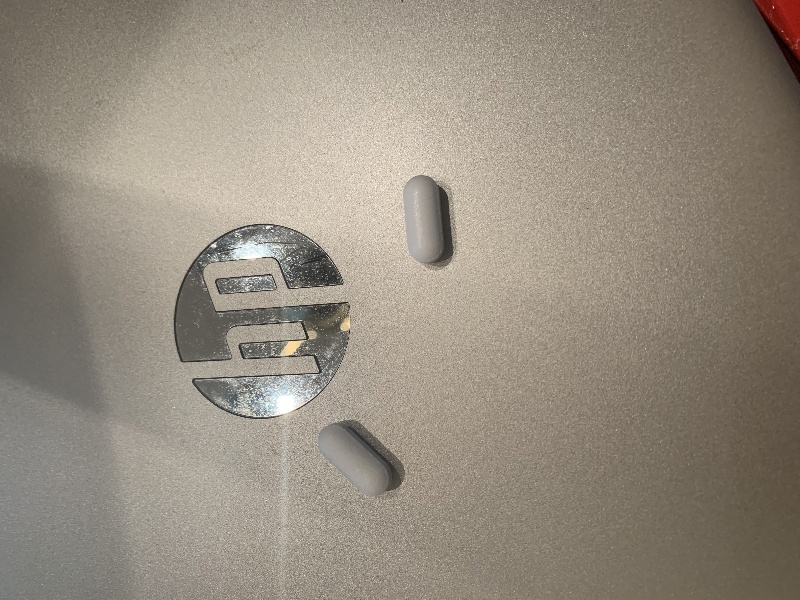Tylenol: (316, 422, 391, 501), (399, 171, 448, 269)
